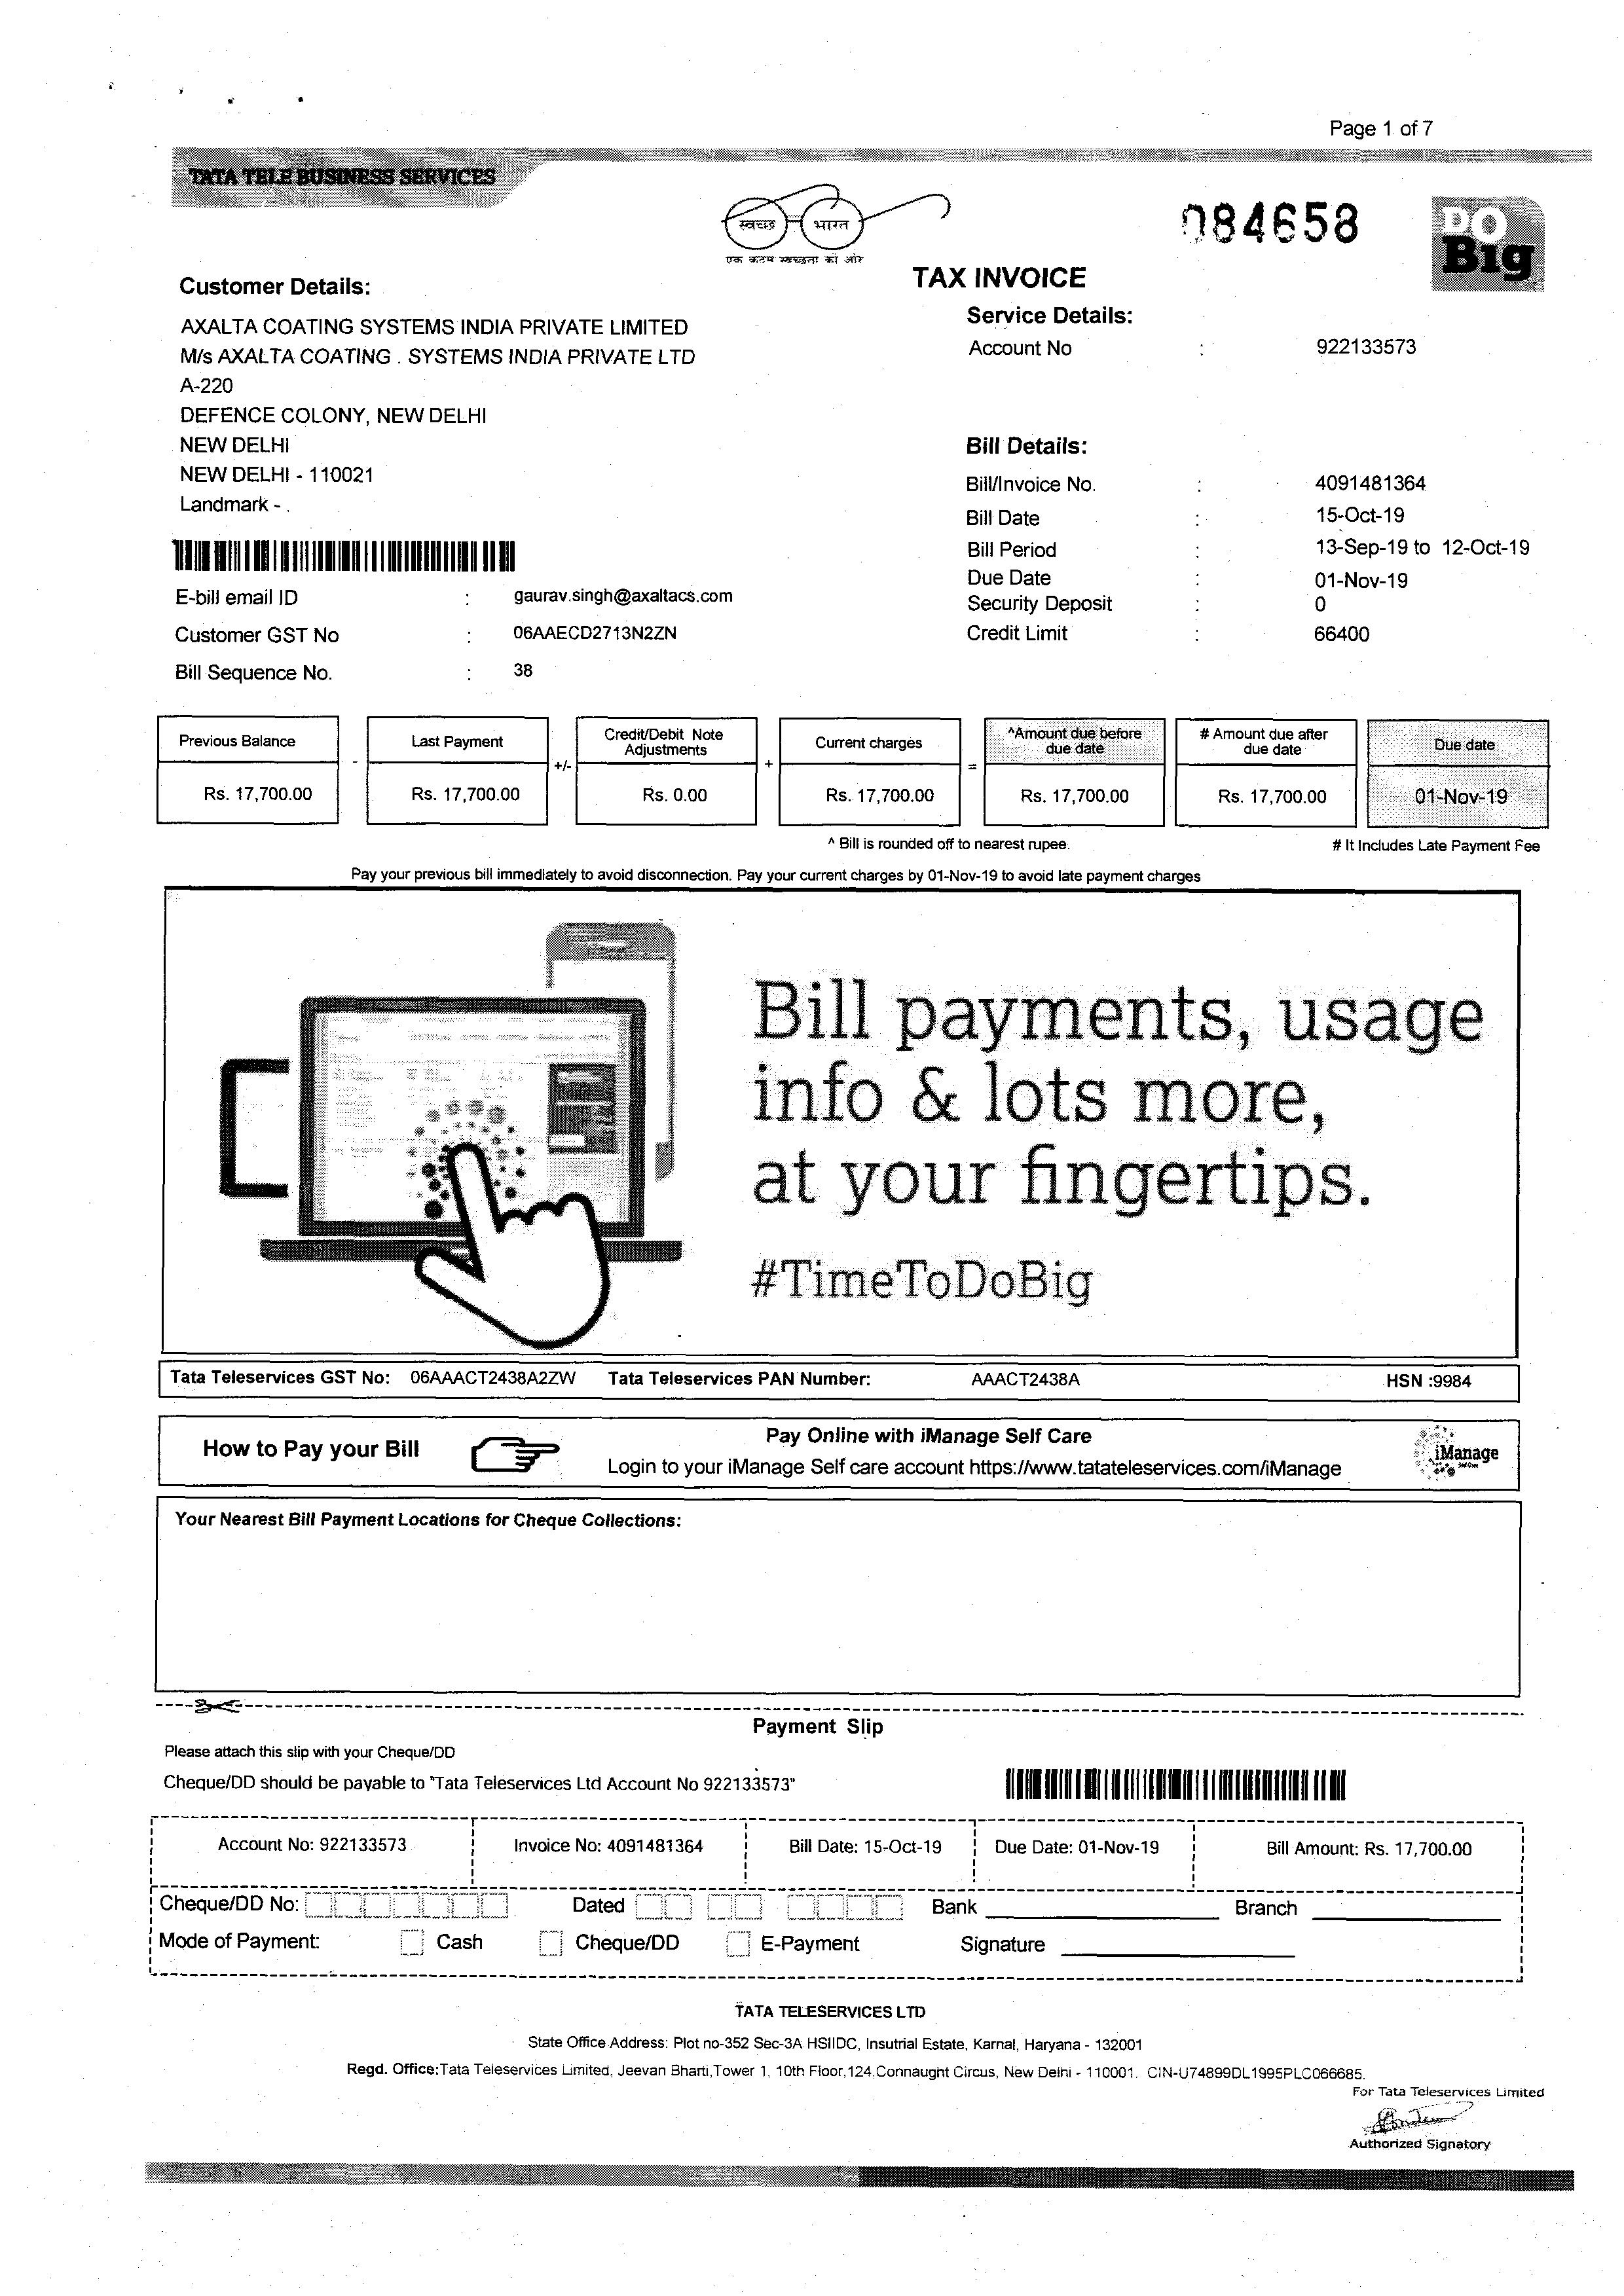B_Paragraph: (742, 961, 1492, 1226), (968, 462, 1540, 653), (172, 311, 701, 513), (346, 2031, 1555, 2106), (172, 583, 745, 682), (167, 1356, 1485, 1395), (603, 1421, 1350, 1481), (162, 1736, 814, 1801), (336, 854, 1202, 901), (740, 1244, 1102, 1321), (169, 1504, 701, 1548), (967, 336, 1424, 371), (1174, 195, 1374, 255), (193, 1430, 425, 1474), (821, 833, 1069, 854), (1325, 836, 1552, 859), (1334, 2129, 1492, 2155), (1320, 116, 1455, 137)
B_SubTitle: (174, 262, 376, 306), (972, 295, 1135, 336), (728, 1996, 923, 2027), (740, 1708, 898, 1743), (963, 423, 1097, 464)
B_Table: (139, 1804, 1527, 1987), (158, 715, 1545, 829)
B_Title: (178, 156, 503, 202), (912, 265, 1091, 295)
